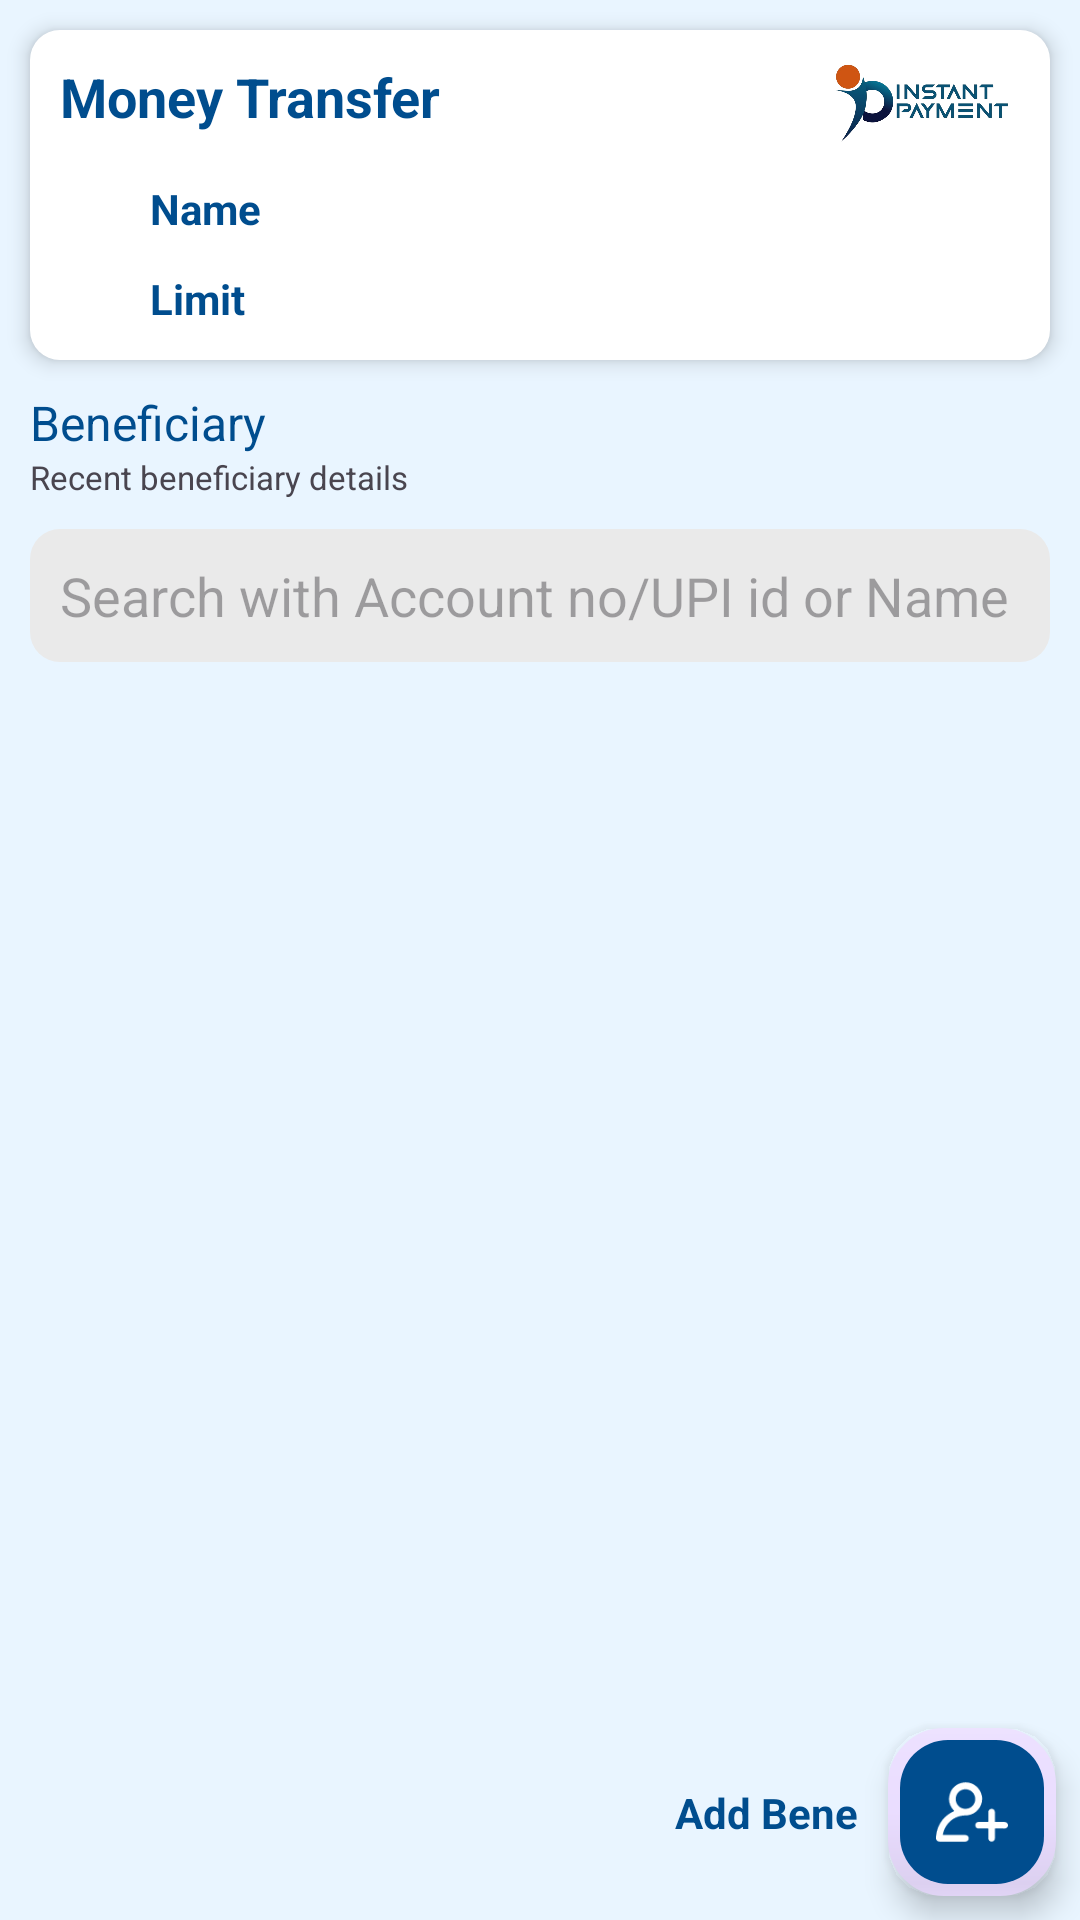

Icon click points for this 1080 × 1920 phone screenshot, format (x=x, y=y):
add user: (x=972, y=1818)
